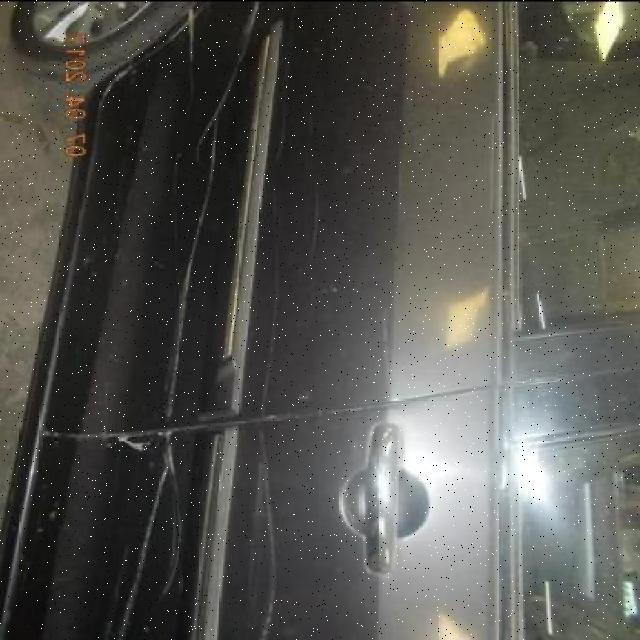damage: (110, 2, 273, 633), (248, 45, 297, 636), (181, 5, 204, 123), (94, 55, 144, 100)
